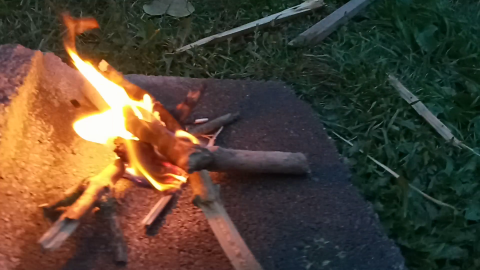fire: (53, 10, 216, 193)
